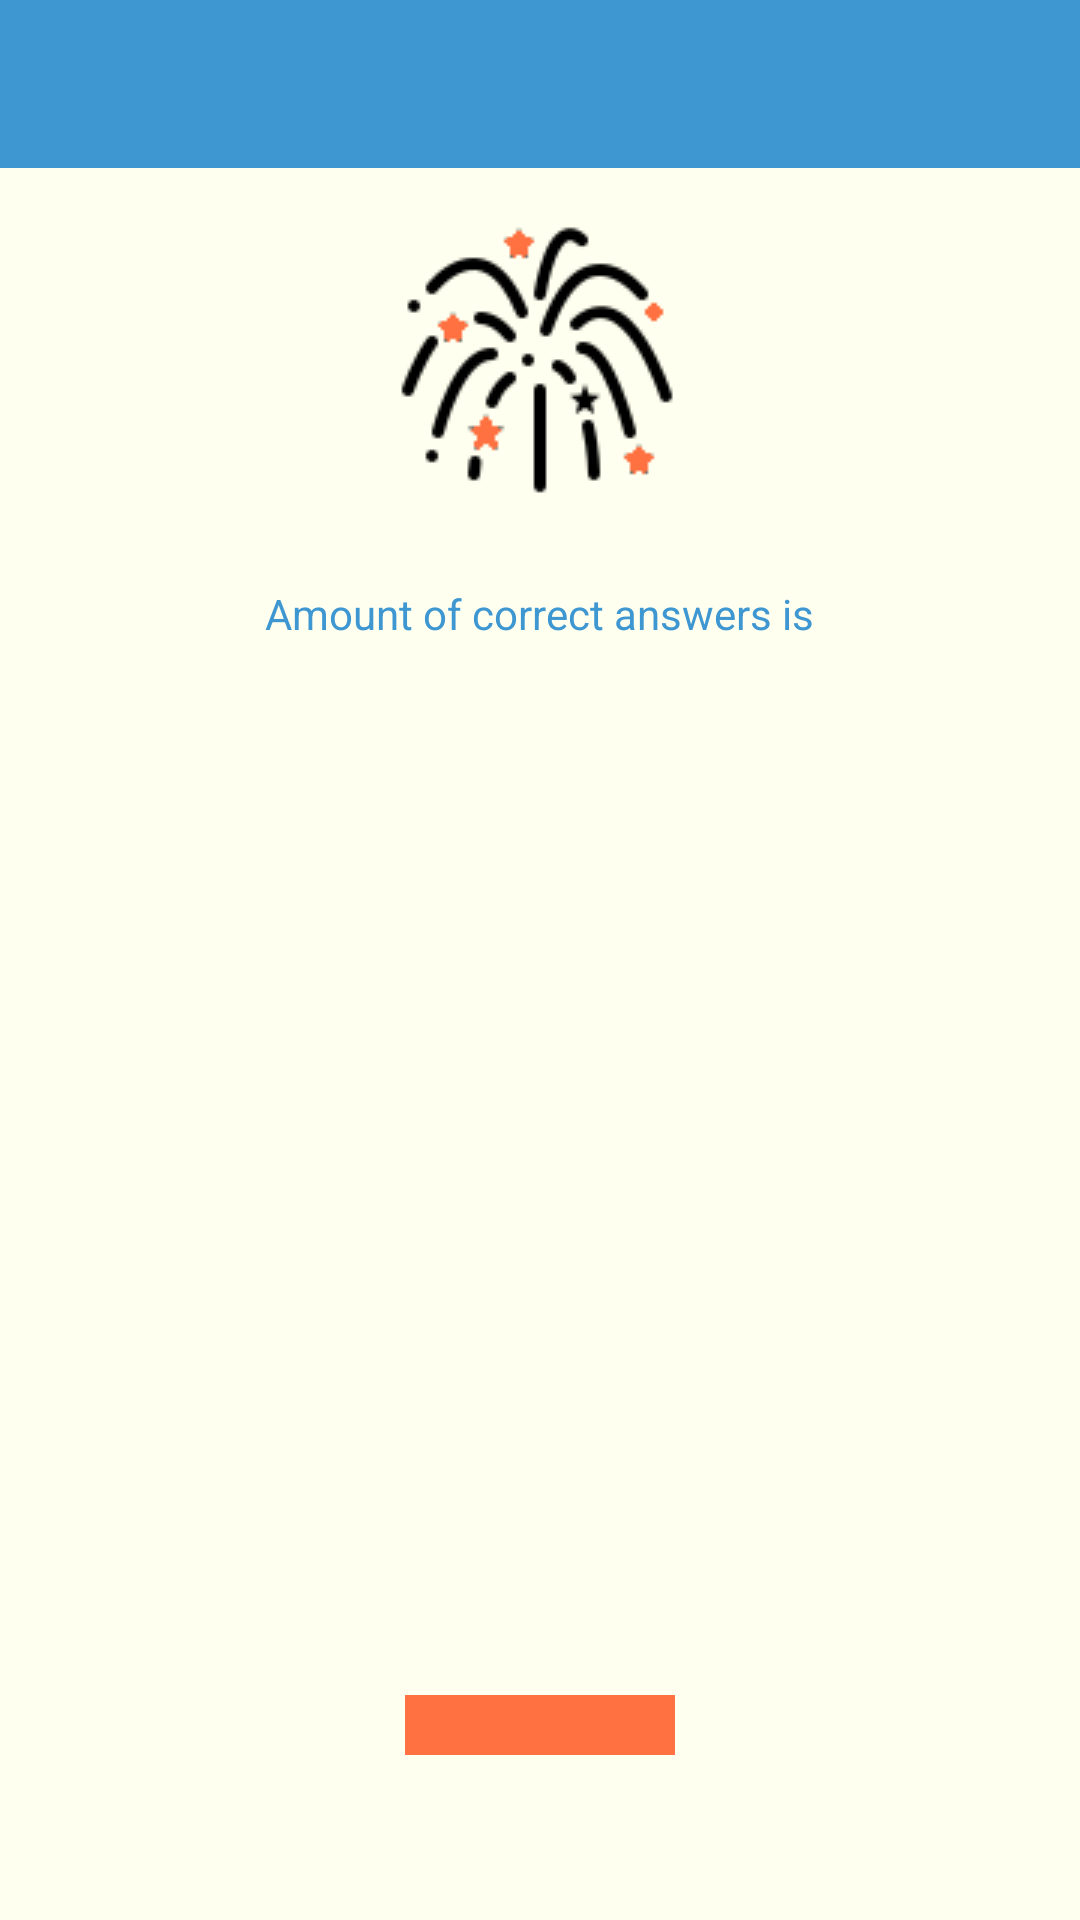

Named icons in this screenshot (1080×1920) and their bounding boxes, (x1, y1, x2, y2):
Firework: (401, 227, 673, 493)
